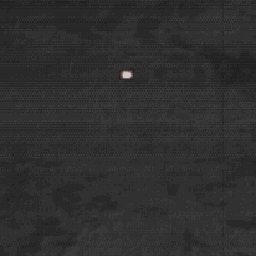Target: (121, 70, 132, 77)
